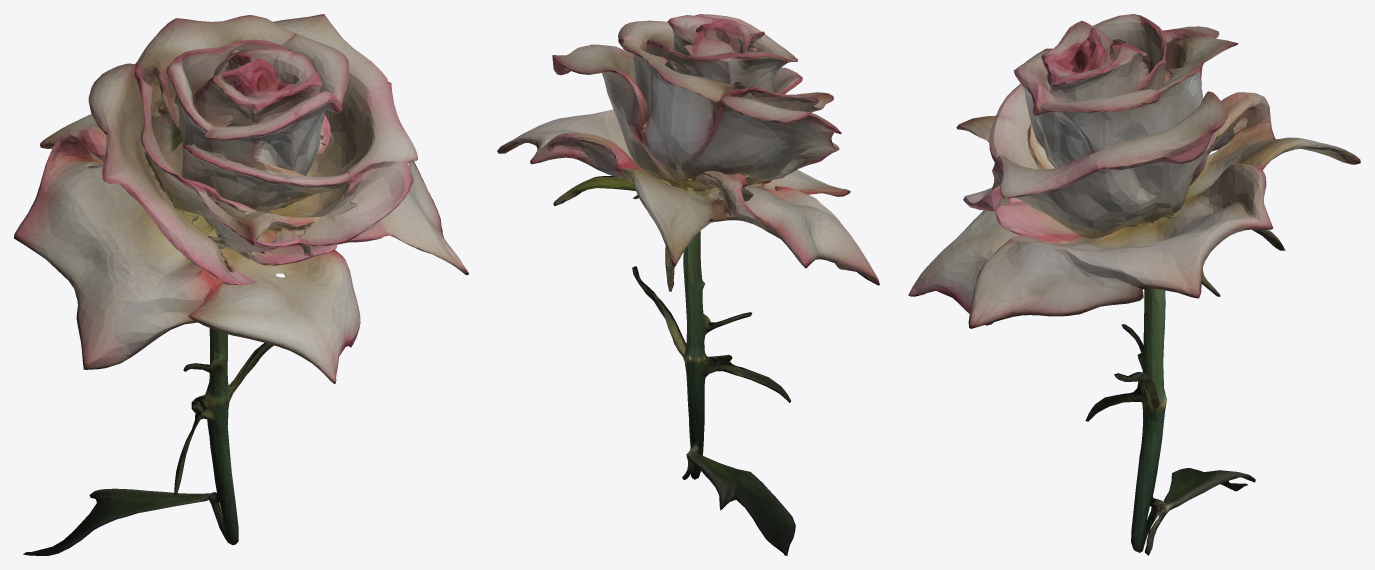
3 views of the same model, side by side, from view 1: azimuth 30°, elevation 25°; view 2: azimuth 150°, elevation 25°; view 3: azimuth 270°, elevation 25° (orthographic). The views are drawn at different scales.
Visible parts, largest first — view 1: world; view 2: world; view 3: world.
Boxes of the visible parts, x1,y1,x2,y2 form: world: (14,14,468,555); world: (497,14,879,555); world: (908,14,1360,555).
Size of the model in its own units: 0.7163 by 0.9309 by 0.7343.
Materials: 1 (1 with a texture image).
